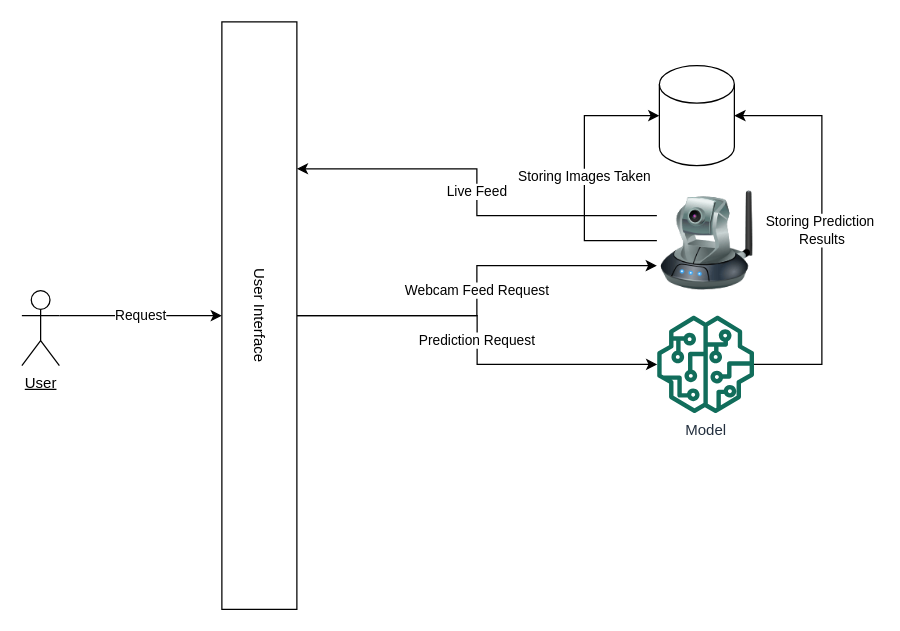
This 900x631 diagram has some shape labels left out. The shapes that lost their labels are listed below. From the top down, each one's centre as x and y in pixels, then its label:
At pixel 696 115: "Local Storage".
At pixel 706 240: "Webcam".
